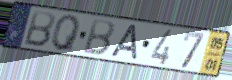4: (148, 28, 173, 66)
7: (181, 30, 207, 70)
A: (108, 23, 138, 62)
B: (21, 9, 56, 49), (80, 18, 115, 58)
Q: (50, 14, 82, 54)
